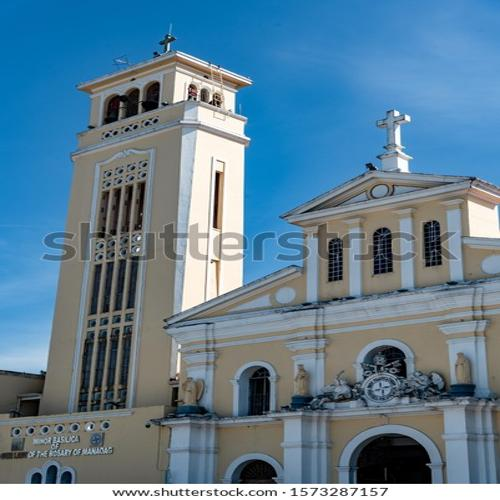Manaoag Church: (40, 24, 500, 482)
